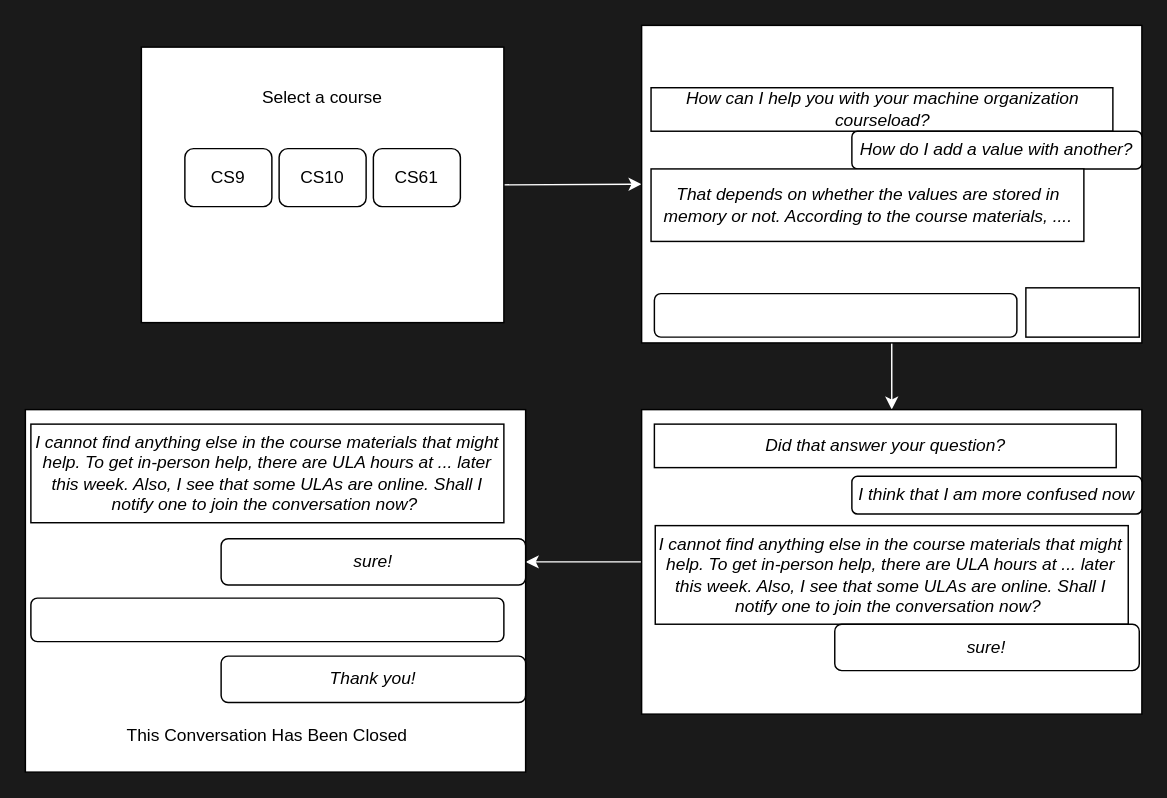
Image size: 1167x798. Some labels were removed from this diagram. Here are the shapes that lost their labels. From the top down, the centre of each, then its label:
At pixel 835 314: "your message here".
At pixel 1081 311: "Request ULA assistance".
At pixel 266 619: "Hey, it looks like the ai was a little loose with terms. When adding values...".
